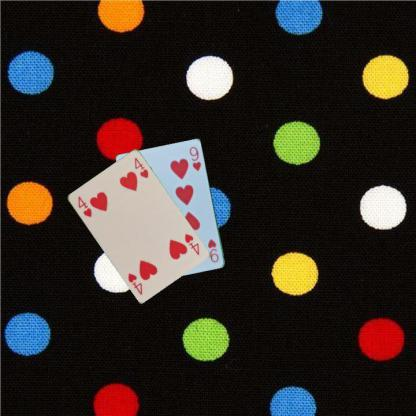4h: (182, 231, 200, 257), (75, 194, 93, 218)
9h: (205, 236, 220, 264)
